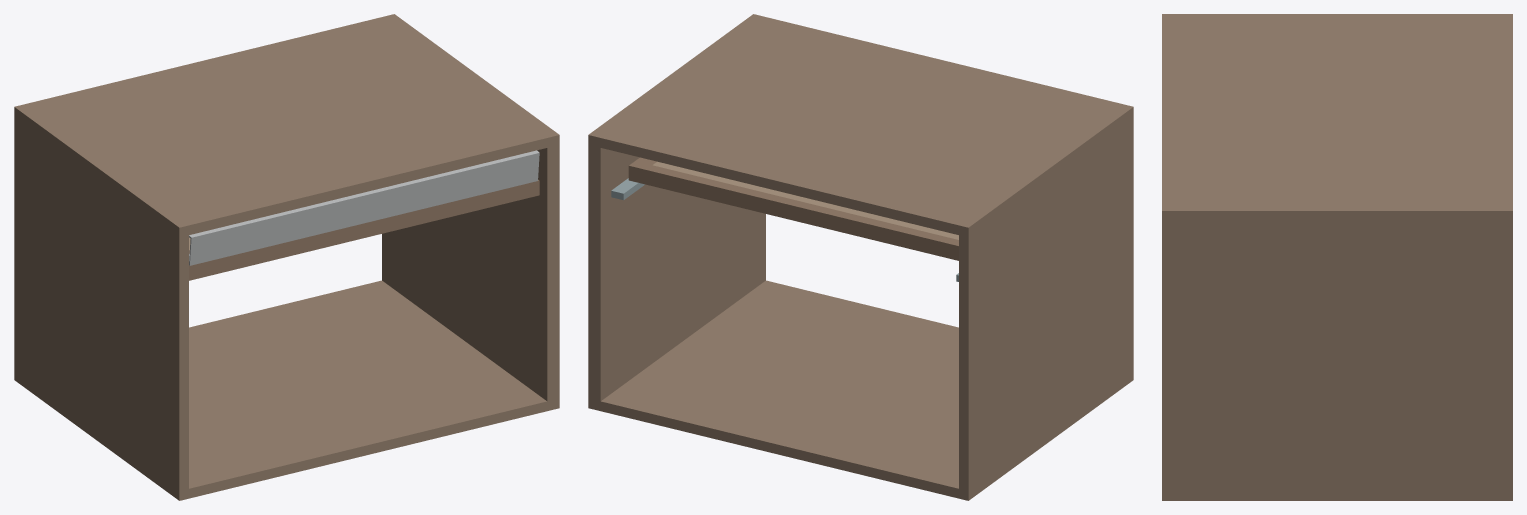
File: mechanism-stowed.glb
The picture shows the model from 3 angles, left to right: view 1: azimuth 30°, elevation 25°; view 2: azimuth 150°, elevation 25°; view 3: azimuth 270°, elevation 25°; orthographic projection. The views are drawn at different scales.
Visible parts, largest first — view 1: Roof, Sill, Left-cheek, Right-cheek, Display-ledge, Bottom-rail; view 2: Roof, Sill, Left-cheek, Right-cheek, Top-rail, Plywood-infill-6; view 3: Right-cheek, Roof, Sill.
Part boxes in pixels (x1=…): Roof: x1=14, y1=14, x2=559, y2=237; Sill: x1=14, y1=280, x2=559, y2=500; Left-cheek: x1=14, y1=117, x2=188, y2=490; Right-cheek: x1=382, y1=145, x2=559, y2=401; Display-ledge: x1=189, y1=150, x2=539, y2=265; Bottom-rail: x1=205, y1=185, x2=522, y2=276; Roof: x1=588, y1=14, x2=1133, y2=237; Sill: x1=588, y1=280, x2=1133, y2=500; Left-cheek: x1=959, y1=117, x2=1133, y2=490; Right-cheek: x1=588, y1=145, x2=765, y2=401; Top-rail: x1=646, y1=165, x2=958, y2=260; Plywood-infill-6: x1=653, y1=161, x2=958, y2=239; Right-cheek: x1=1162, y1=221, x2=1512, y2=490; Roof: x1=1162, y1=14, x2=1512, y2=221; Sill: x1=1162, y1=490, x2=1512, y2=500.
Size of the model in its own units: 0.485 by 0.333 by 0.365.
